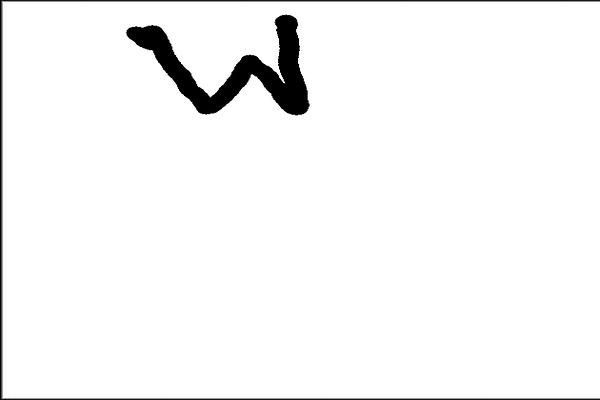w: (120, 9, 327, 127)
